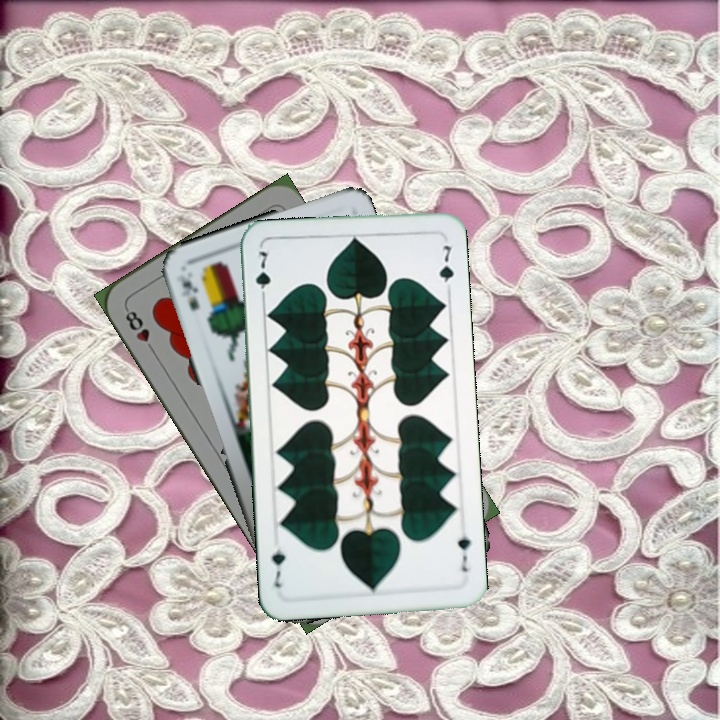EK: (177, 274, 202, 313)
G7: (251, 247, 273, 305), (453, 532, 473, 575)
H8: (121, 303, 159, 356)
